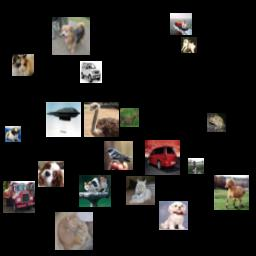airplane: (46, 102, 81, 137)
automobile: (145, 140, 180, 175), (80, 61, 102, 83)
bird: (84, 102, 119, 137), (104, 141, 133, 170), (188, 158, 204, 174)
cat: (55, 212, 93, 250), (79, 175, 111, 207), (126, 176, 155, 205), (12, 54, 34, 76), (181, 37, 197, 53)
deer: (120, 108, 139, 127)
dog: (52, 17, 90, 55), (159, 201, 188, 230), (38, 161, 64, 187), (5, 126, 21, 142)
frog: (207, 113, 226, 132)
ship: (170, 13, 192, 35)
truck: (3, 181, 35, 213)
